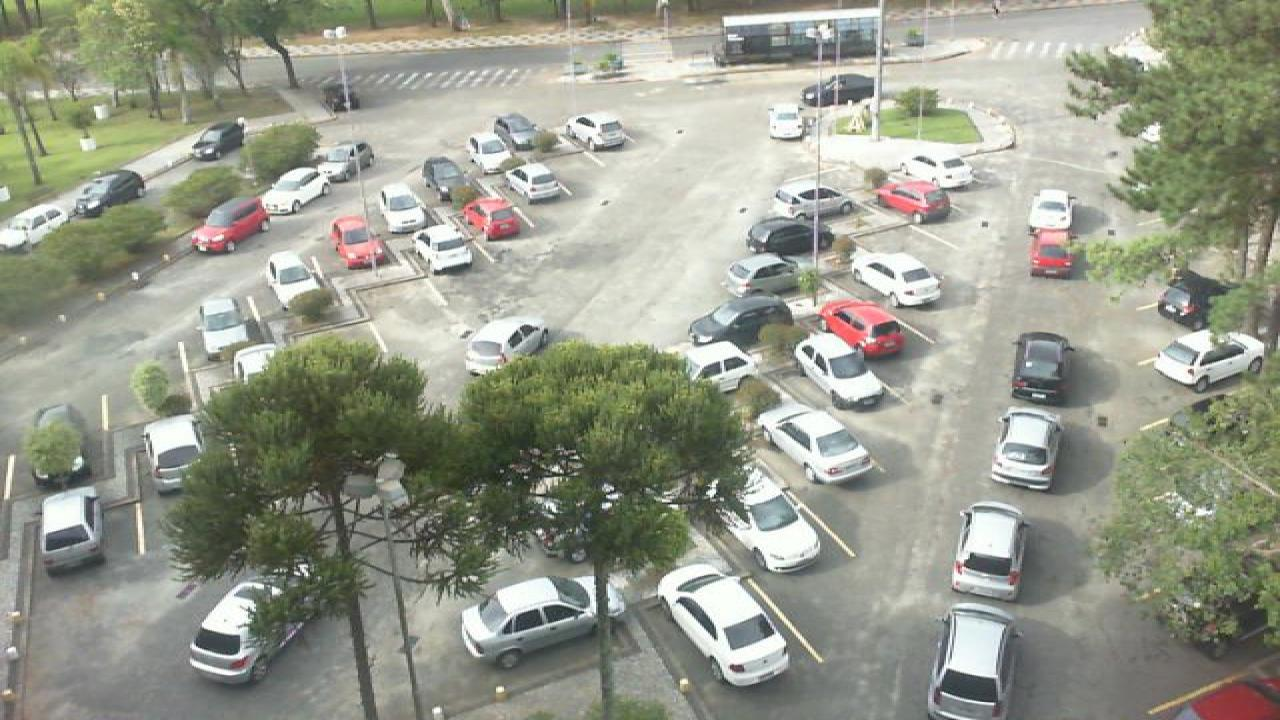Car: (656, 562, 792, 688), (460, 574, 626, 672), (708, 461, 822, 576), (188, 580, 304, 684), (928, 602, 1024, 720), (756, 397, 876, 486), (950, 500, 1028, 600), (792, 334, 890, 410), (1154, 328, 1270, 391), (36, 487, 110, 577), (990, 406, 1066, 493), (24, 400, 90, 488), (686, 295, 794, 348), (820, 297, 906, 359), (852, 252, 944, 309), (464, 317, 552, 376), (142, 412, 206, 492), (1008, 332, 1074, 405), (684, 339, 760, 398), (190, 197, 270, 252), (724, 254, 806, 304), (746, 214, 836, 258), (0, 199, 74, 251), (264, 250, 322, 314), (260, 166, 332, 216), (196, 294, 254, 356), (72, 169, 146, 216), (874, 179, 950, 223), (774, 184, 858, 222), (1156, 269, 1212, 325), (414, 224, 474, 276), (900, 151, 976, 191), (332, 215, 384, 270), (462, 198, 524, 242), (800, 74, 876, 109), (376, 182, 426, 233), (312, 140, 374, 180), (188, 122, 248, 163), (1028, 230, 1076, 280), (420, 156, 472, 200), (564, 112, 626, 148), (508, 162, 562, 201), (492, 114, 542, 153), (230, 342, 280, 381), (464, 134, 510, 174), (1028, 189, 1072, 229), (528, 130, 574, 166), (768, 104, 808, 140), (320, 81, 360, 113)
